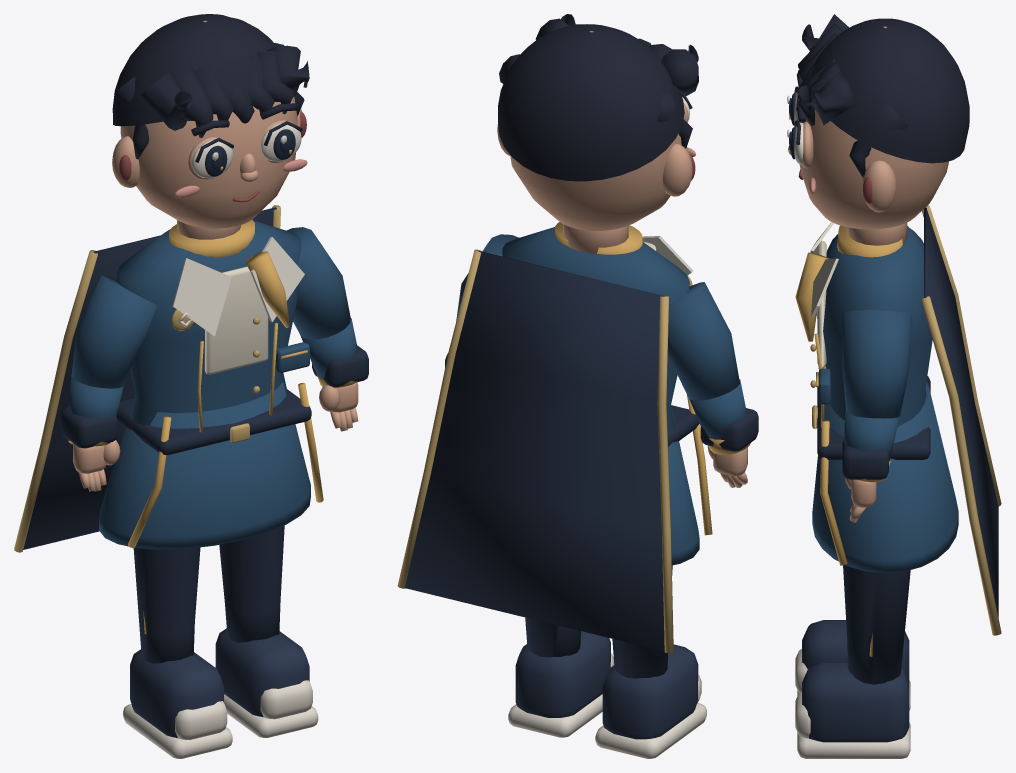
Rendered from trainer_lieutenant.glb.
The picture shows the model from 3 angles, left to right: view 1: azimuth 30°, elevation 25°; view 2: azimuth 150°, elevation 25°; view 3: azimuth 270°, elevation 25°; orthographic projection.
Parts seen in each view (by area): view 1: figure.006; view 2: figure.006; view 3: figure.006.
Part boxes in pixels (x1,y1,x2,y2): figure.006: (14, 14, 368, 758); figure.006: (397, 14, 758, 758); figure.006: (787, 14, 1001, 758).
Bounding box in the file's own units: 1.1 × 2.5 × 0.6943.
